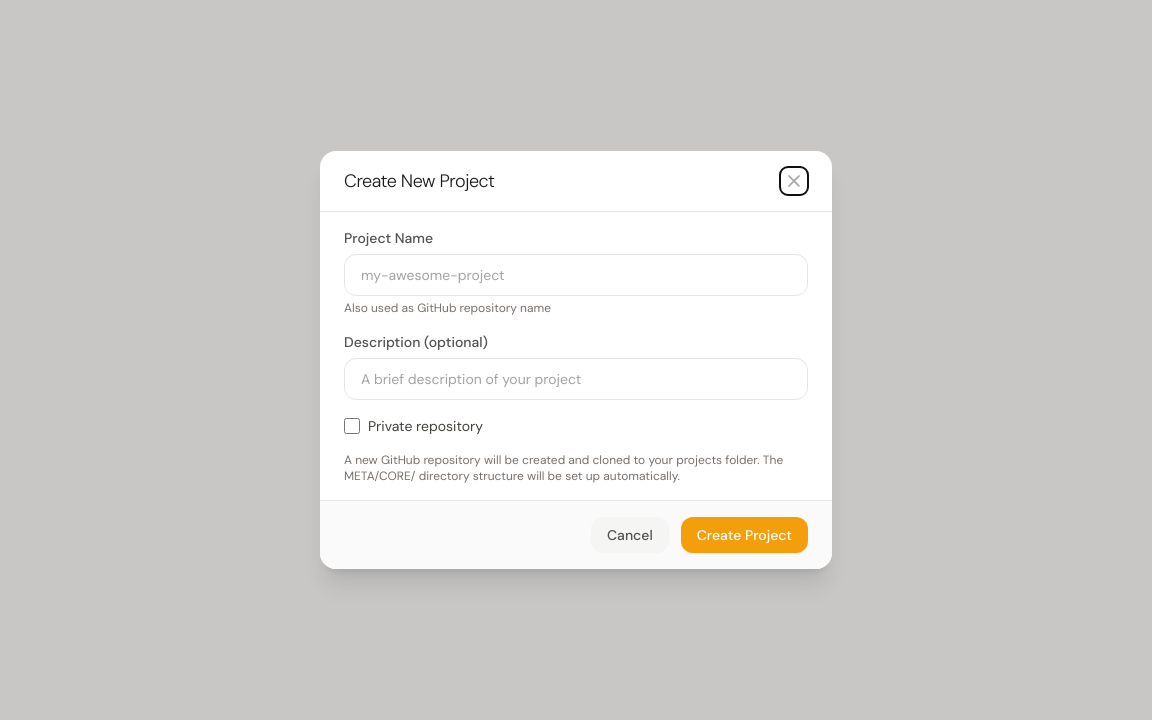
Test case: CreateProjectModal › should show error when submitting empty name
Click the button "Create Project" at (744, 535), box x1=681 y1=517 x2=808 y2=553
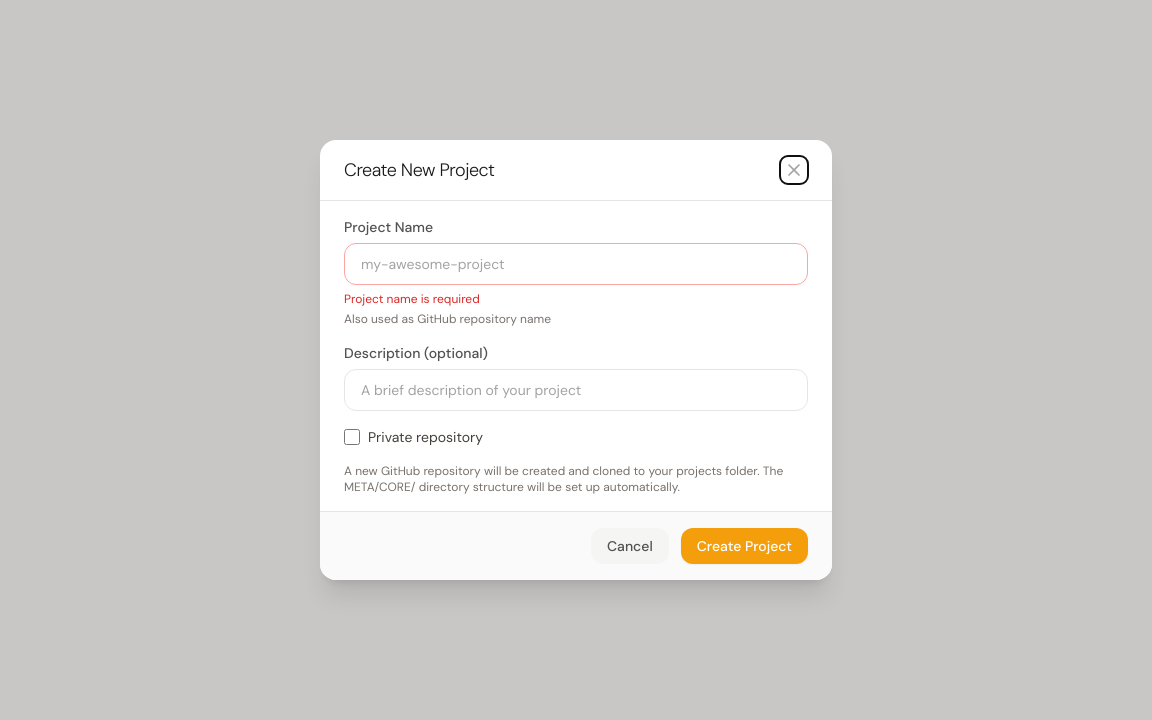
Result: the text "Project name is required" is shown at x1=344 y1=291 x2=480 y2=307
